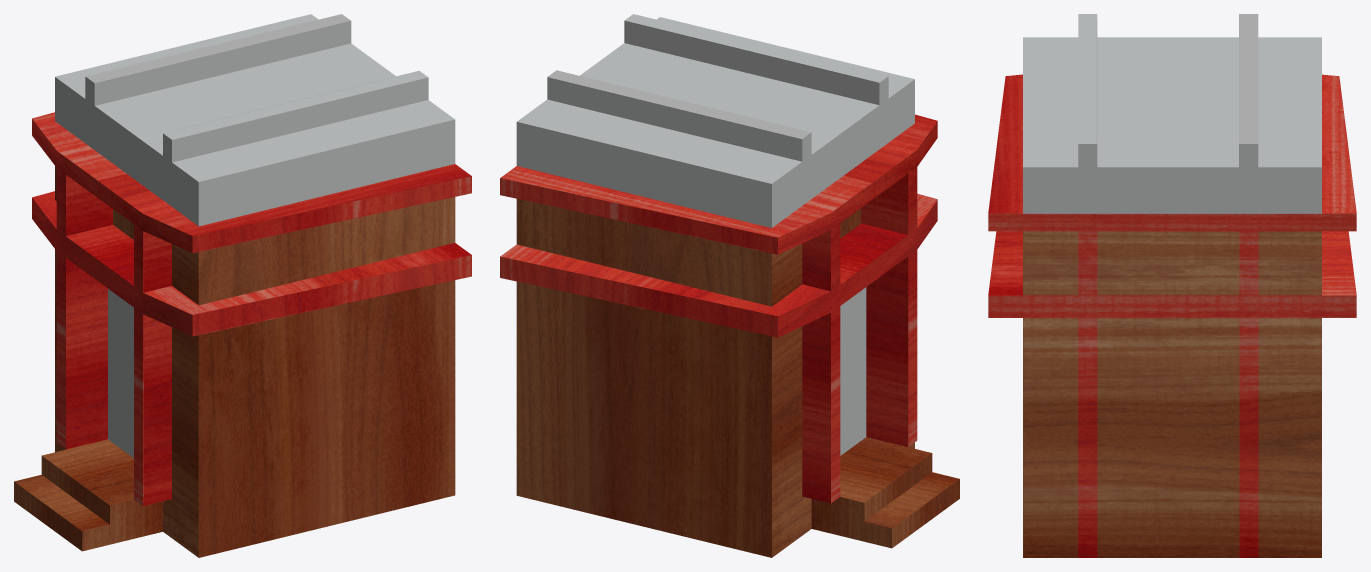
The model's file is ChaosZooCityMapTower03.fbx.
3 renders of one model, left to right at view 1: azimuth 30°, elevation 25°; view 2: azimuth 150°, elevation 25°; view 3: azimuth 270°, elevation 25°, orthographic. The views are drawn at different scales.
Parts seen in each view (by area): view 1: pCube93; view 2: pCube93; view 3: pCube93.
Part boxes in pixels (x1=…): pCube93: x1=14, y1=14, x2=471, y2=557; pCube93: x1=500, y1=14, x2=959, y2=557; pCube93: x1=988, y1=14, x2=1356, y2=557.
Bounding box in the file's own units: 53.8 × 60.74 × 49.01.
